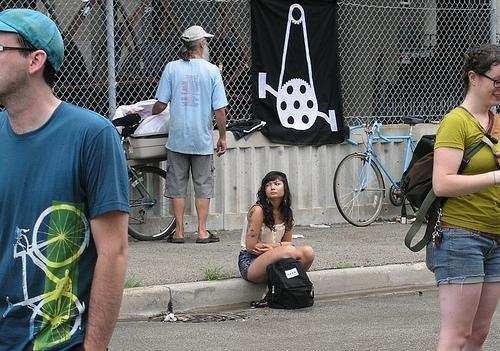bicycle: (333, 117, 425, 226), (111, 114, 176, 239)
